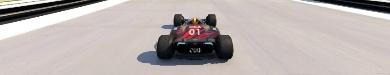Car: (154, 13, 233, 60)
curve: (0, 0, 389, 74)
